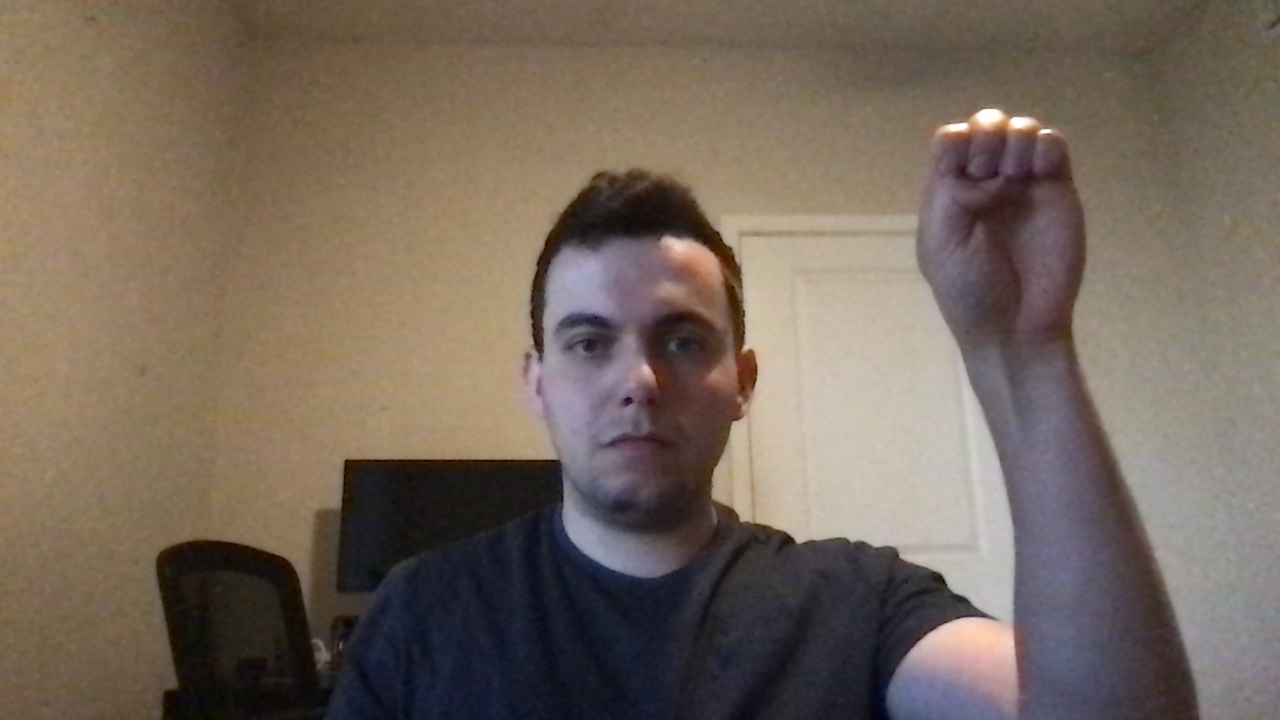e: (891, 92, 1115, 358)
